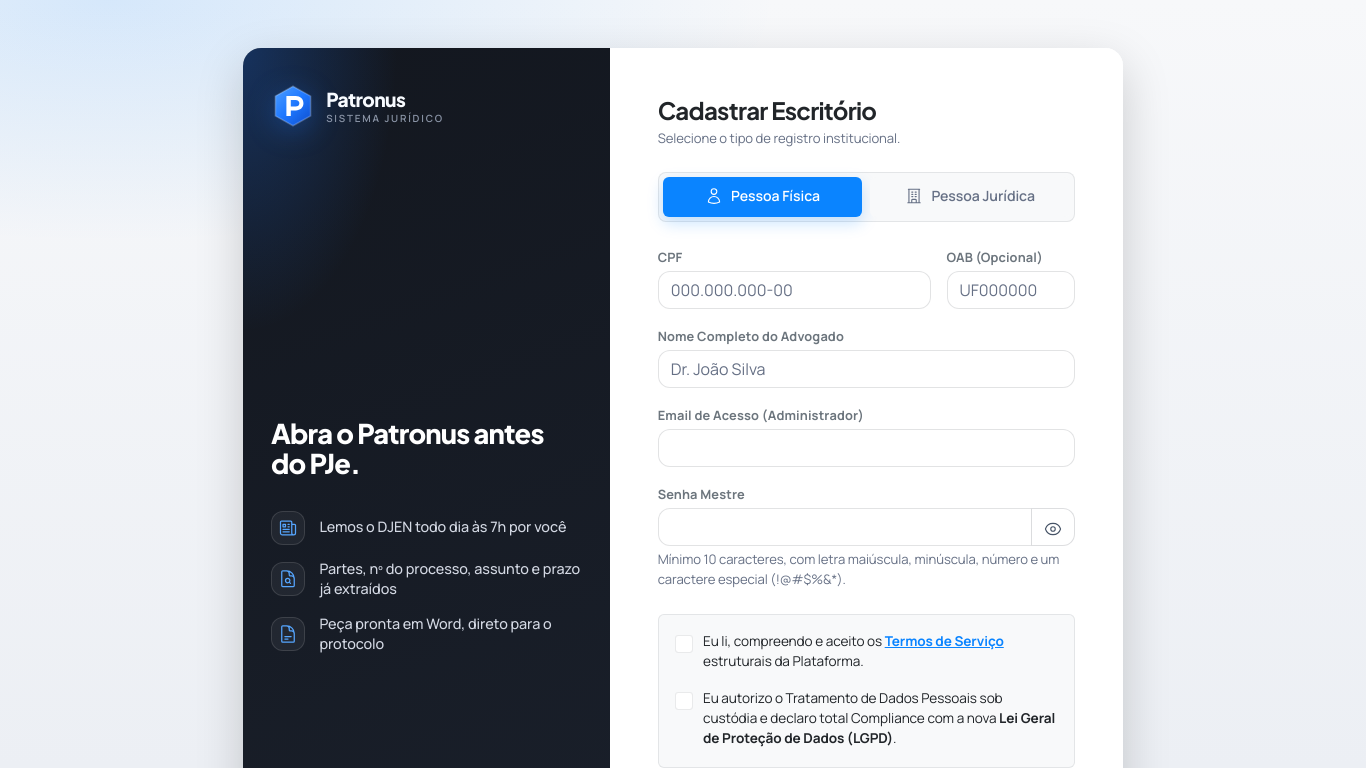
Test: RegisterPage — aceite LGPD › carrega markdown no modal de termos
Click the text "Termos de Serviço": (944, 641) [885,632,1004,650]
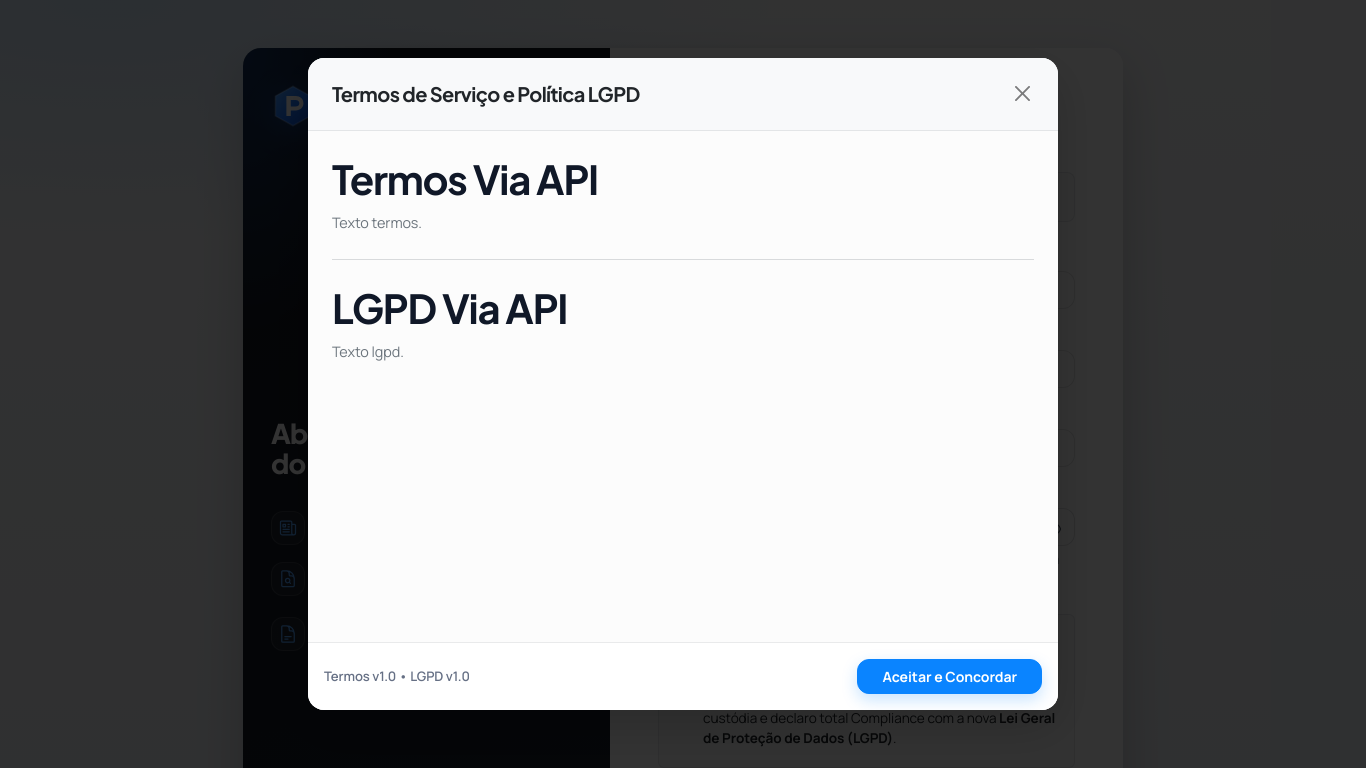
expect the heading "Termos Via API" is shown: met, box [332,153,598,204]
expect the heading "LGPD Via API" is shown: met, box [332,282,567,333]
